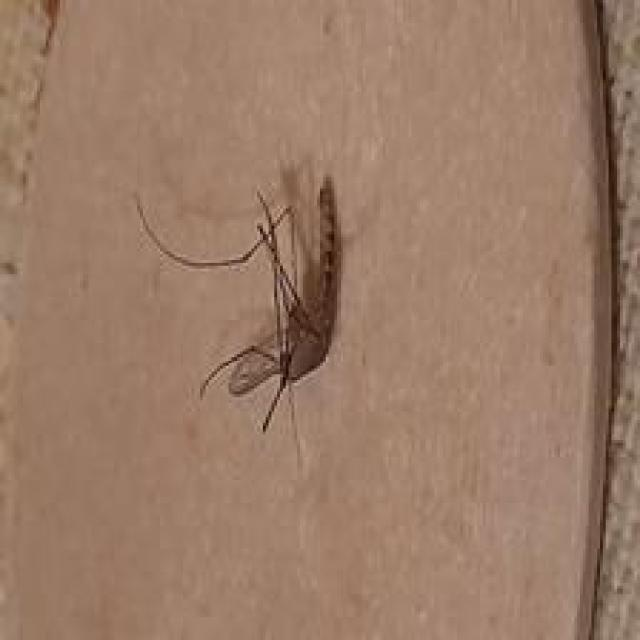Culex: (133, 170, 344, 461)
